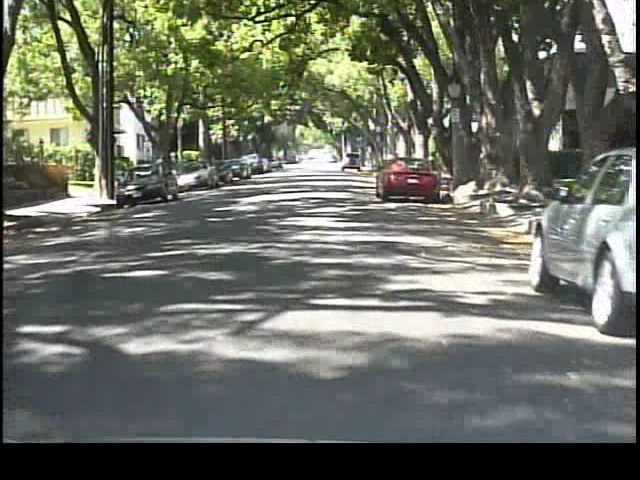person: (153, 147, 172, 186)
